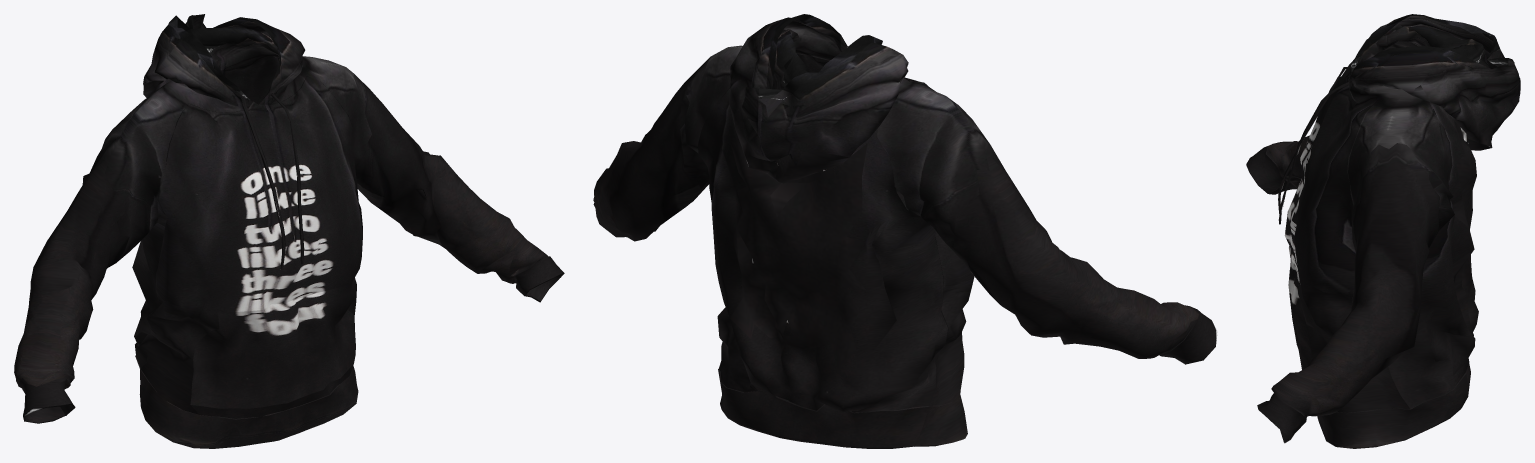
File: BALENCIAGAHOODIE.obj
The picture shows the model from 3 angles, left to right: view 1: azimuth 30°, elevation 25°; view 2: azimuth 150°, elevation 25°; view 3: azimuth 270°, elevation 25°; orthographic projection. The views are drawn at different scales.
Parts seen in each view (by area): view 1: HIGHRESHOODIE; view 2: HIGHRESHOODIE; view 3: HIGHRESHOODIE.
Boxes of the visible parts, bbox=[...] form: HIGHRESHOODIE: bbox=[14, 14, 564, 448]; HIGHRESHOODIE: bbox=[593, 14, 1217, 448]; HIGHRESHOODIE: bbox=[1246, 14, 1520, 448].
Size of the model in its own units: 11.24 by 7.43 by 4.84.
